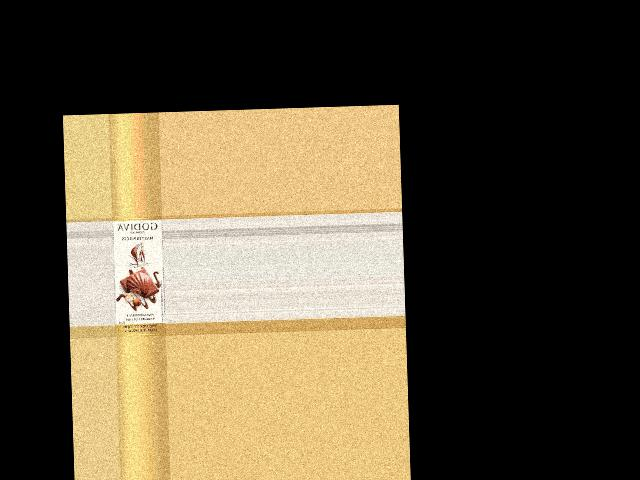chocolate: (111, 216, 165, 336)
